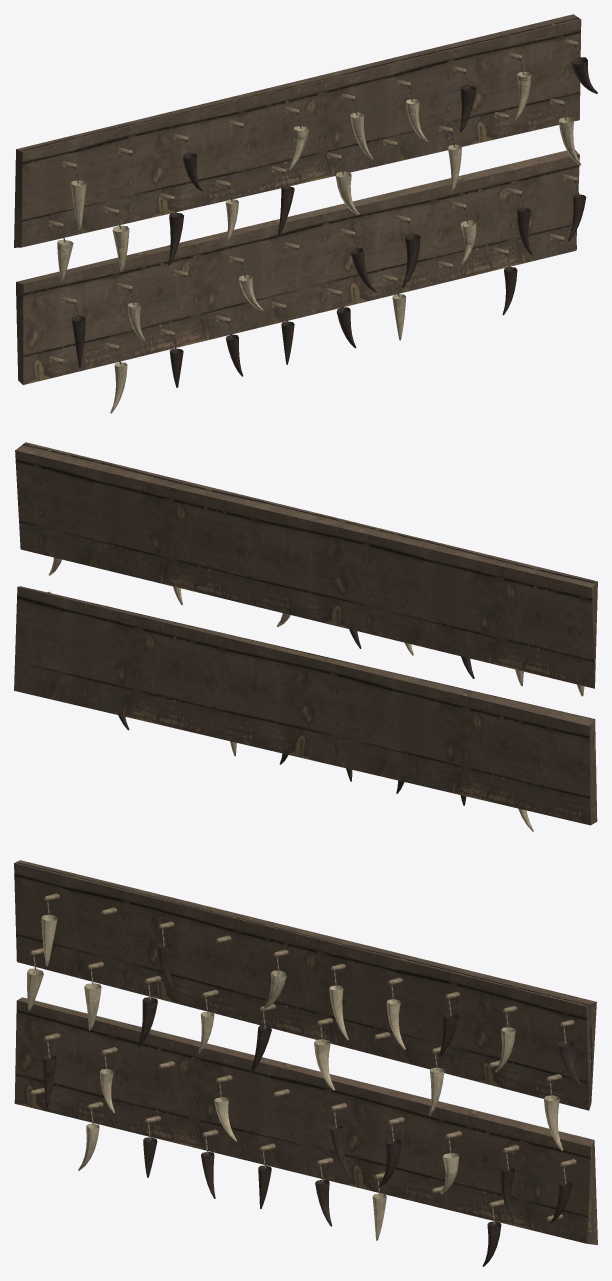
Rendered from th_horn_rack.glb.
3 views of the same model, one above another, from view 1: azimuth 30°, elevation 25°; view 2: azimuth 150°, elevation 25°; view 3: azimuth 330°, elevation 25° (orthographic). The views are drawn at different scales.
Visible parts, largest first — view 1: th_horn_rack; view 2: th_horn_rack; view 3: th_horn_rack.
Part boxes in pixels (box(x1,y1,x2,y2)): th_horn_rack: box(14, 14, 597, 413); th_horn_rack: box(14, 442, 597, 831); th_horn_rack: box(14, 860, 597, 1266).
Bounding box in the file's own units: 2.53 × 1.16 × 0.1747.
Materials: 1 (1 with a texture image).
